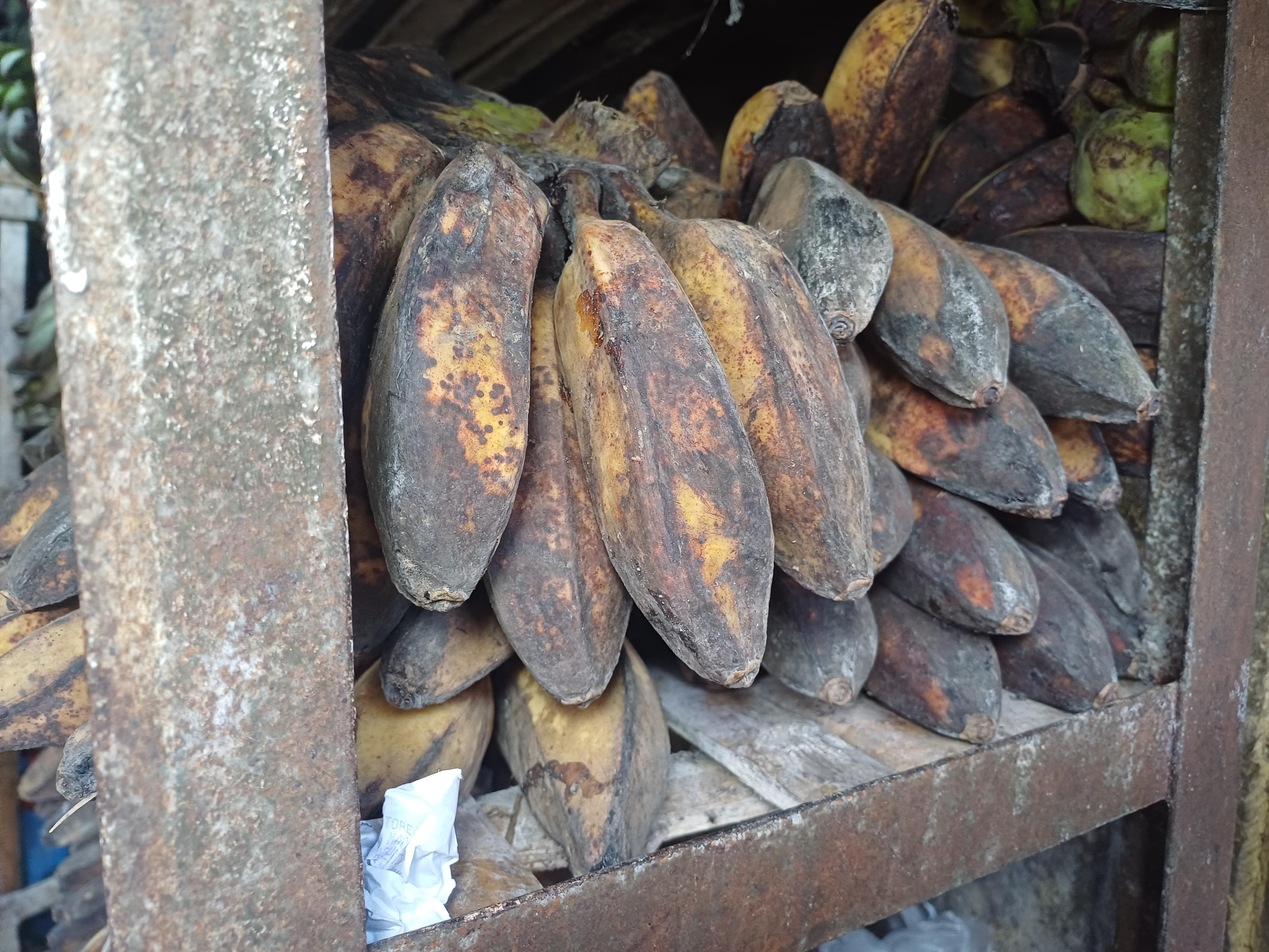overripe: (325, 43, 876, 711), (720, 0, 1164, 345), (748, 158, 1160, 519), (763, 439, 1141, 743)
ripe: (344, 459, 674, 881), (0, 453, 96, 802)
